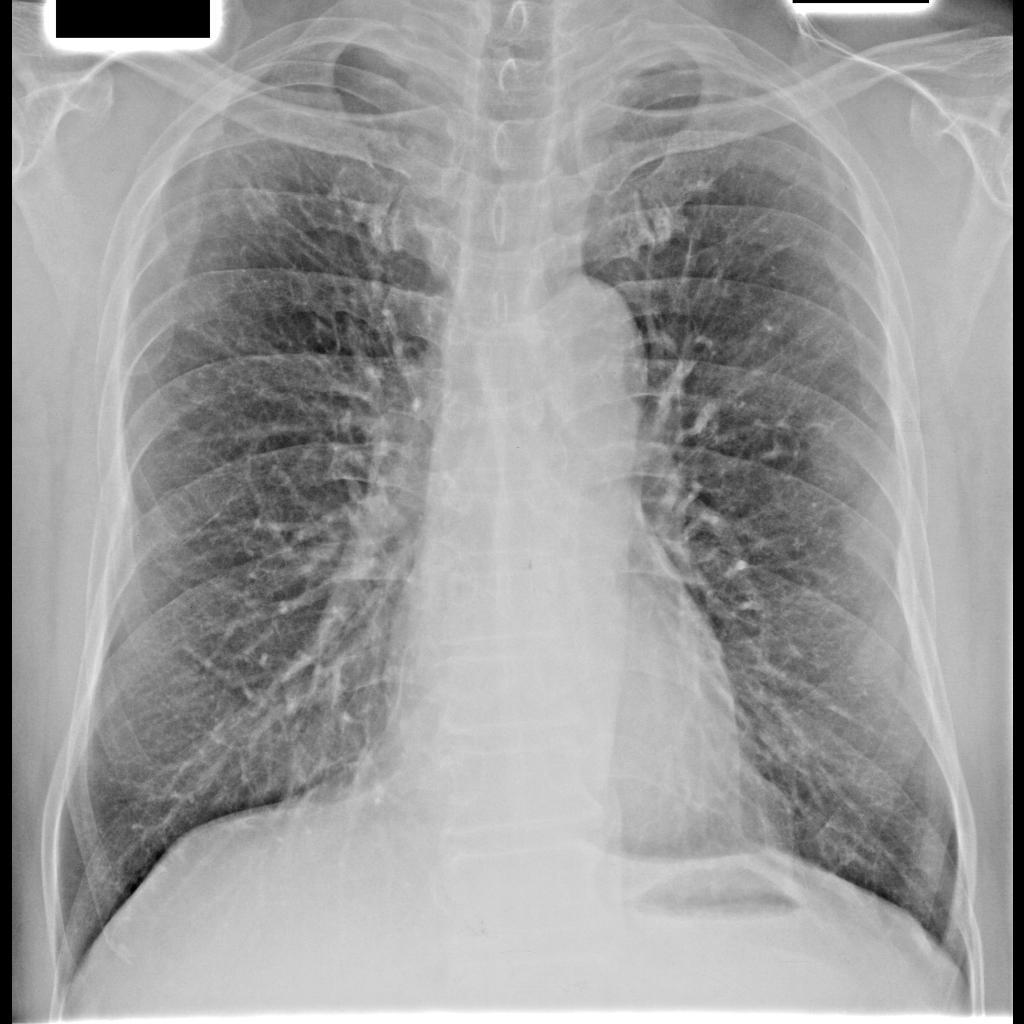Nodule: (234, 179, 282, 226)
